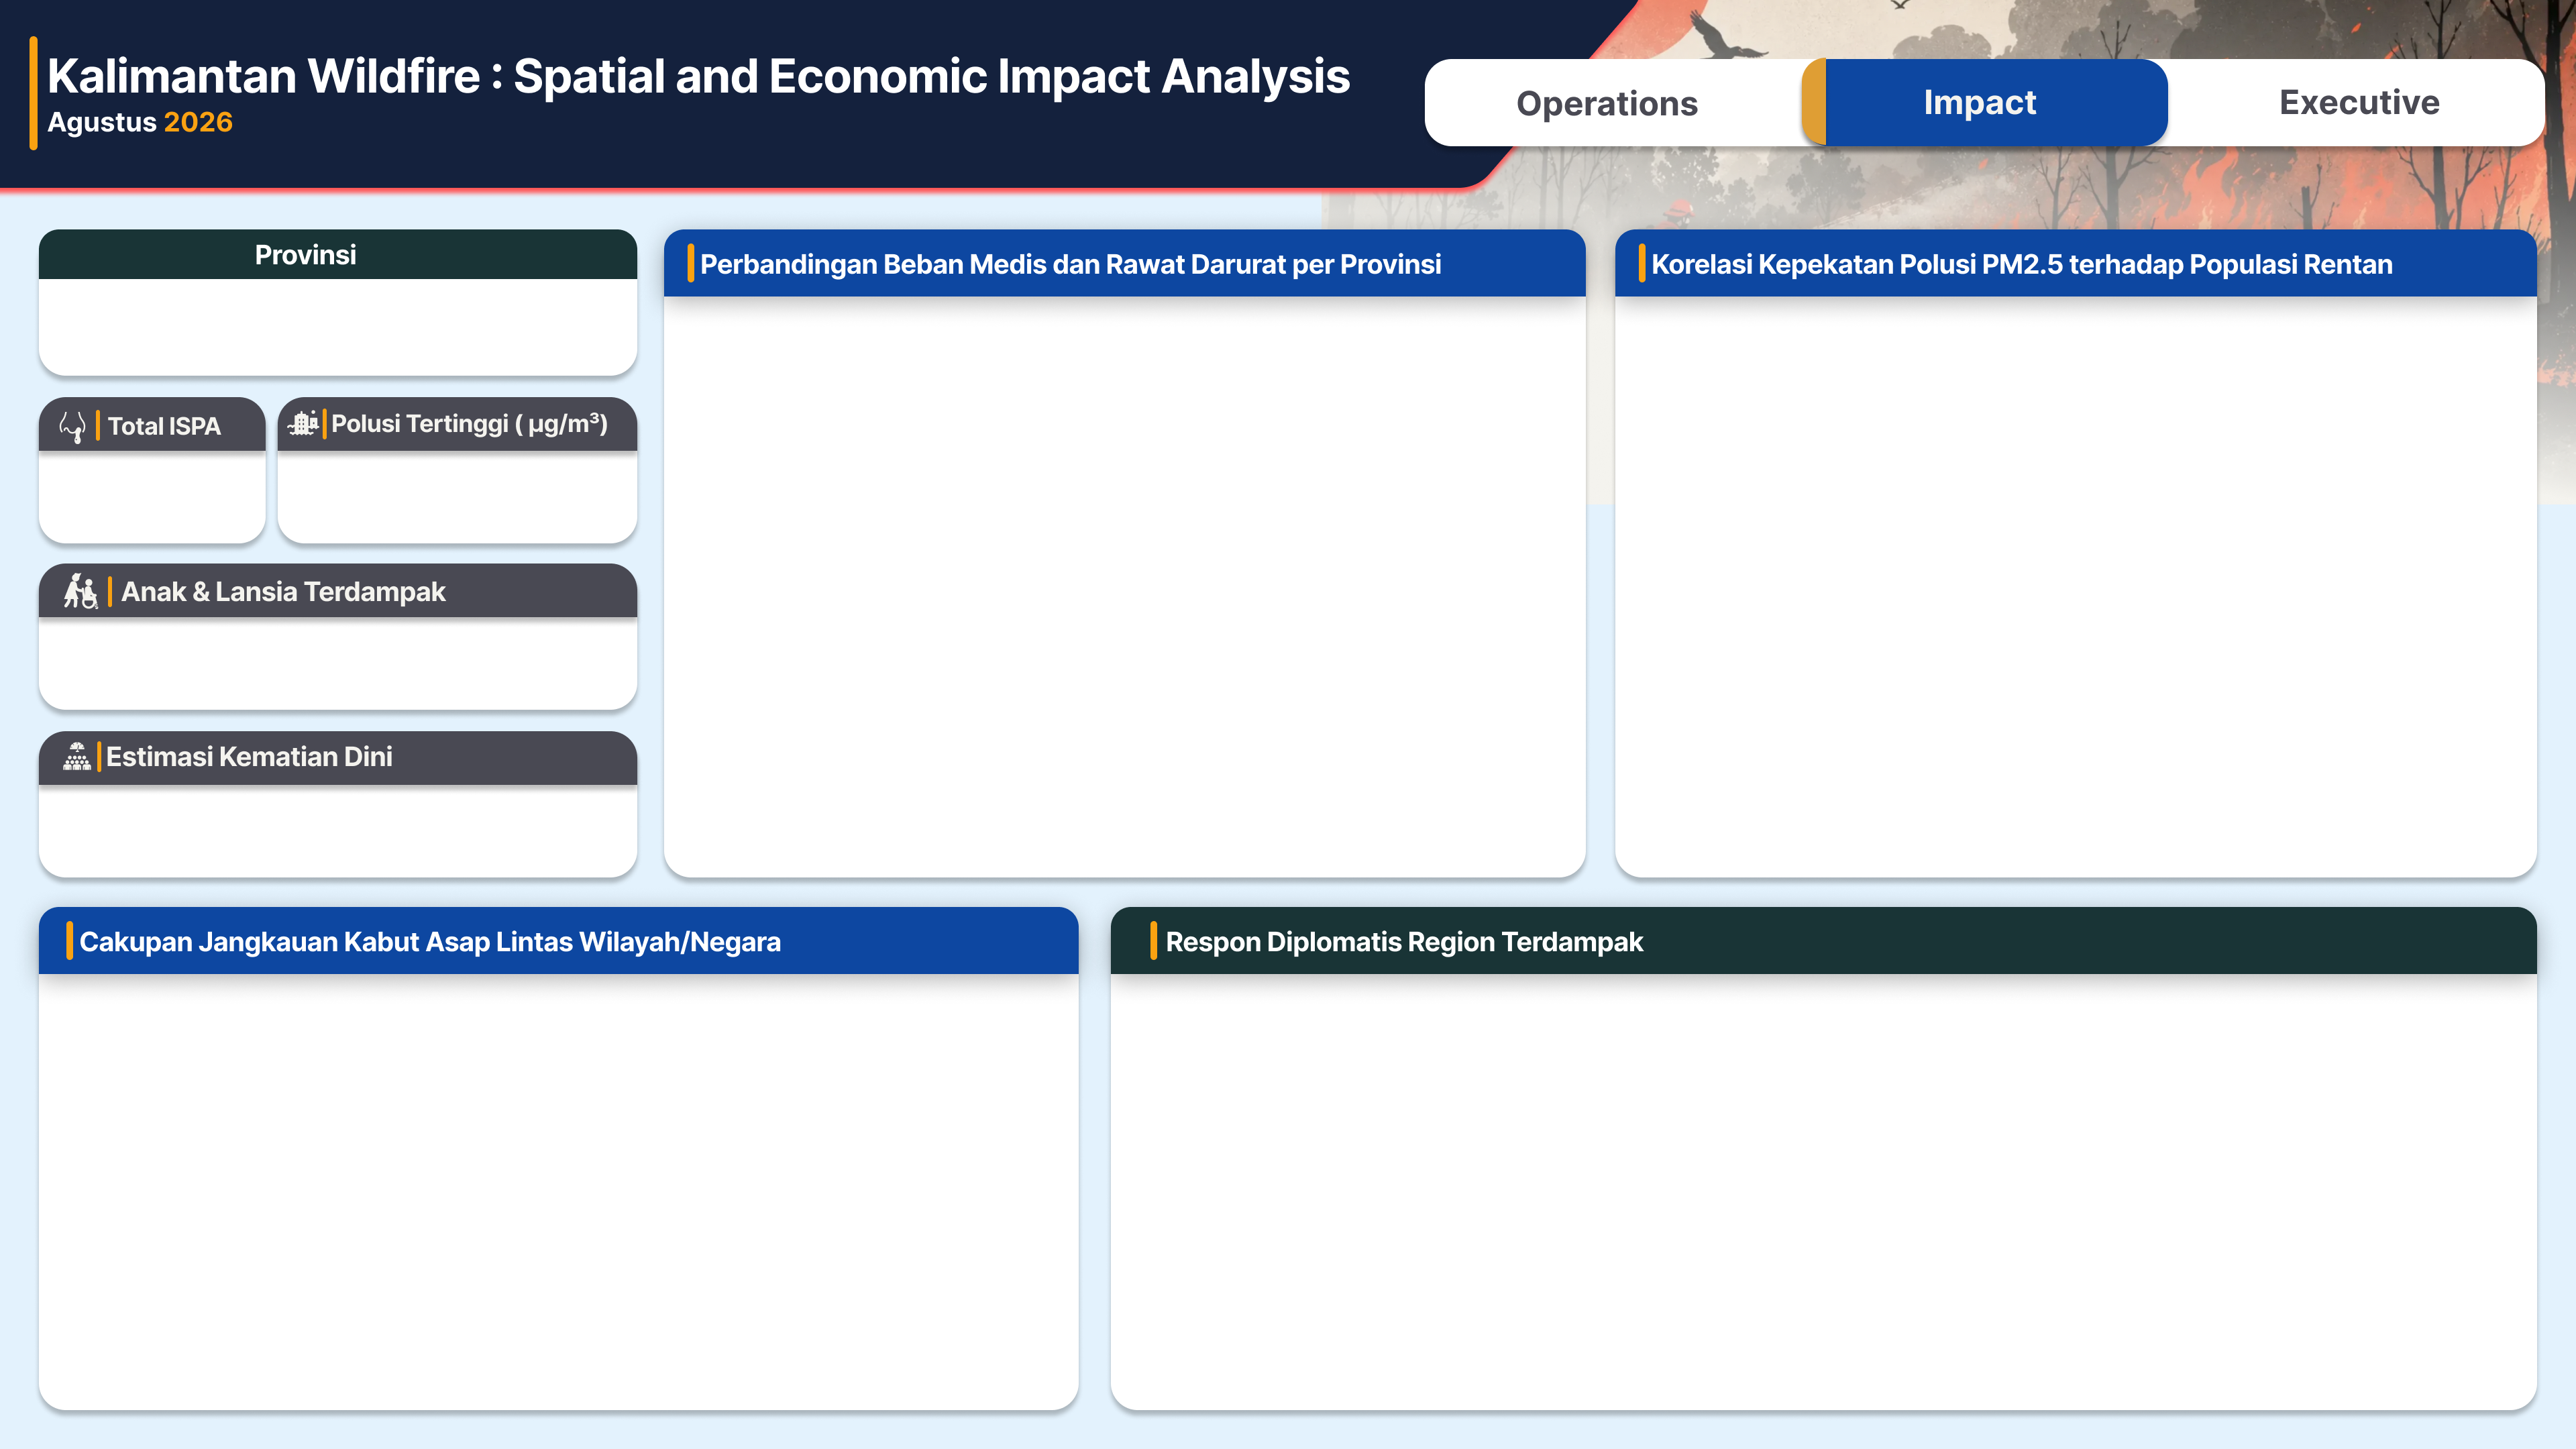

The dashboard page shown, as its layout file describes it:
{"tool":"powerbi","page":{"name":"Page 2","canvas":[1920,1080],"ordinal":1},"visuals":[{"type":"slicer","fields":{"Values":["Dim_Provinsi.province"]},"box":[42,222,422,46],"z":0},{"type":"cardVisual","title":"Estimasi Kematian Dini","fields":{"Data":["Sum(kalimantan_fire_fatalities_health_impacts.premature_deaths_pm25_est)"]},"box":[79.2,470.8,346.7,45.8],"z":1000},{"type":"cardVisual","title":"Total Kasus ISPA","fields":{"Data":["Sum(kalimantan_fire_fatalities_health_impacts.ispa_cases_treated)"]},"box":[41.7,340.8,149.2,45.8],"z":2000},{"type":"cardVisual","title":"Anak & Lansia Terdampak","fields":{"Data":["Sum(kalimantan_fire_fatalities_health_impacts.vulnerable_population_affected)"]},"box":[79.2,594.2,347.5,48.3],"z":3000},{"type":"cardVisual","title":"Polusi Tertinggi PM 2.5","fields":{"Data":["Max(kalimantan_fire_fatalities_health_impacts.peak_pm25_ug_m3)"]},"box":[252.5,337.5,171.7,52.5],"z":4000},{"type":"hundredPercentStackedBarChart","title":"Perbandingan Beban Medis dan Rawat Darurat per Provinsi","fields":{"Category":["Dim_Provinsi.province"],"Y":["Sum(kalimantan_fire_fatalities_health_impacts.ispa_cases_treated)","Sum(kalimantan_fire_fatalities_health_impacts.asthma_and_pneumonia_cases)","Sum(kalimantan_fire_fatalities_health_impacts.emergency_hospitalizations)"]},"box":[507.1,234.3,664,398],"z":5000},{"type":"scatterChart","title":"Korelasi Kepekatan Polusi PM2.5 terhadap Populasi Rentan","fields":{"Category":["Dim_Provinsi.province"],"Series":["Dim_Provinsi.province"],"Size":["Sum(kalimantan_fire_fatalities_health_impacts.premature_deaths_pm25_est)"],"X":["Sum(kalimantan_fire_fatalities_health_impacts.peak_pm25_ug_m3)"],"Y":["Sum(kalimantan_fire_fatalities_health_impacts.vulnerable_population_affected)"]},"box":[1217.5,235,657.5,407.5],"z":6000},{"type":"donutChart","title":"Cakupan Jangkauan Kabut Asap Lintas Wilayah/Negara","fields":{"Category":["kalimantan_transboundary_haze_external_impacts.region_name"],"Y":["CountNonNull(kalimantan_transboundary_haze_external_impacts.region_name)"]},"box":[42.3,734.6,752.7,301.9],"z":7000},{"type":"tableEx","fields":{"Values":["kalimantan_transboundary_haze_external_impacts.region_name","kalimantan_transboundary_haze_external_impacts.diplomatic_tension"]},"box":[840,734,1036,302],"z":8000}]}

Visuals, with their boxes in screenshot pixels (x1, y1, x2, y2), scaled from the page's 1920x1080 canvas onto the 2576x1449 screenshot:
slicer - Dim_Provinsi.province: 56/298/623/360
"Estimasi Kematian Dini" cardVisual: 106/632/572/693
"Total Kasus ISPA" cardVisual: 56/458/256/519
"Anak & Lansia Terdampak" cardVisual: 106/797/572/862
"Polusi Tertinggi PM 2.5" cardVisual: 339/453/569/523
"Perbandingan Beban Medis dan Rawat Darurat per Provinsi" hundredPercentStackedBarChart: 680/315/1571/849
"Korelasi Kepekatan Polusi PM2.5 terhadap Populasi Rentan" scatterChart: 1633/315/2516/862
"Cakupan Jangkauan Kabut Asap Lintas Wilayah/Negara" donutChart: 57/985/1067/1391
tableEx - kalimantan_transboundary_haze_external_impacts.region_name x kalimantan_transboundary_haze_external_impacts.diplomatic_tension: 1127/985/2517/1390
